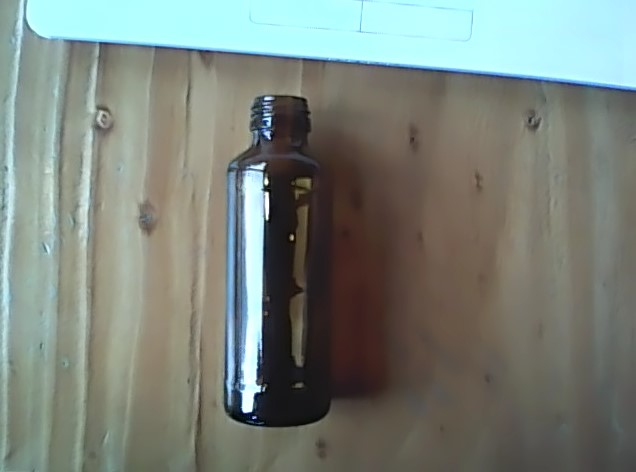Glass: (218, 91, 342, 432)
